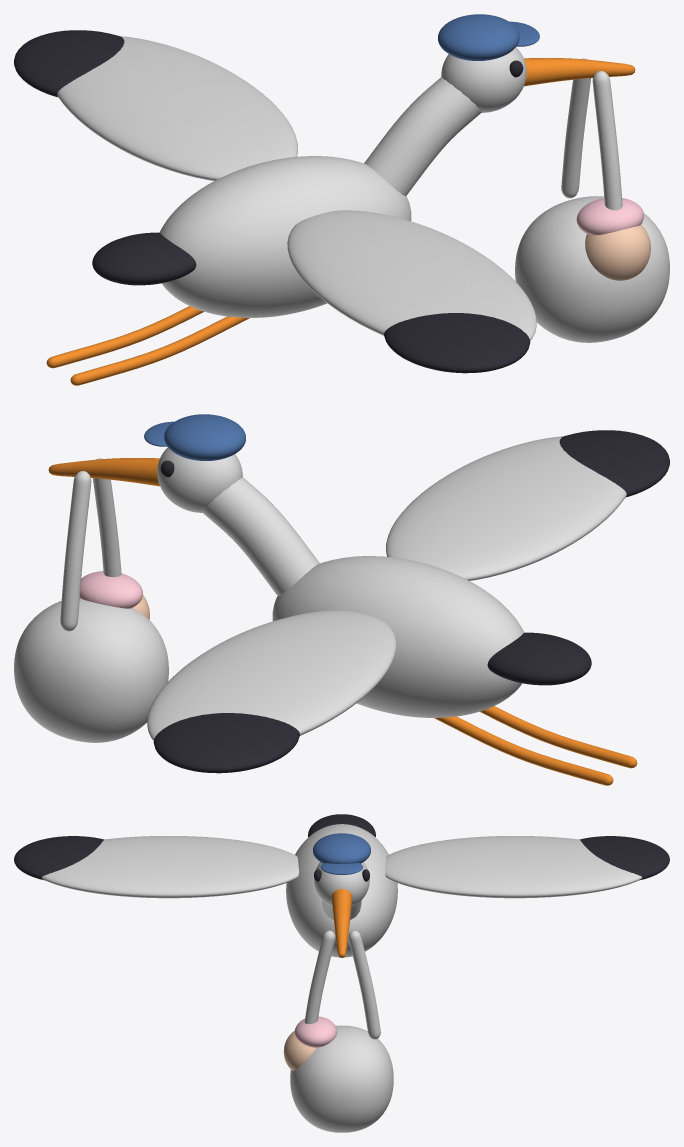
File: ciguena.glb
3 views of the same model, one above another, from view 1: azimuth 30°, elevation 25°; view 2: azimuth 150°, elevation 25°; view 3: azimuth 270°, elevation 25° (orthographic). The views are drawn at different scales.
Visible parts, largest first — view 1: cuerpo cigüeña, ala.001, ala, pañuelo, punta ala, cuello cigüeña, punta ala.001, cola cigüeña, cabeza cigüeña, gorra, cabeza en pañuelo, nudo pañuelo (+5 smaller); view 2: cuerpo cigüeña, ala, ala.001, pañuelo, punta ala.001, cuello cigüeña, punta ala, cola cigüeña, cabeza cigüeña, gorra, nudo pañuelo.001, pata cigüeña.001 (+4 smaller); view 3: ala, ala.001, pañuelo, cuerpo cigüeña, punta ala, punta ala.001, gorra, nudo pañuelo.001, cabeza cigüeña, nudo pañuelo, pico cigüeña, gorrito (+2 smaller).
Part boxes in pixels (x1=…): cuerpo cigüeña: x1=159, y1=156, x2=411, y2=317; ala.001: x1=57, y1=36, x2=297, y2=180; ala: x1=287, y1=210, x2=536, y2=340; pañuelo: x1=515, y1=196, x2=669, y2=342; punta ala: x1=384, y1=313, x2=530, y2=373; cuello cigüeña: x1=364, y1=77, x2=481, y2=195; punta ala.001: x1=14, y1=30, x2=124, y2=97; cola cigüeña: x1=92, y1=232, x2=196, y2=285; cabeza cigüeña: x1=441, y1=47, x2=526, y2=112; gorra: x1=438, y1=14, x2=519, y2=60; cabeza en pañuelo: x1=585, y1=225, x2=650, y2=280; nudo pañuelo: x1=592, y1=71, x2=622, y2=210; cuerpo cigüeña: x1=272, y1=556, x2=524, y2=717; ala: x1=386, y1=436, x2=626, y2=580; ala.001: x1=147, y1=610, x2=396, y2=740; pañuelo: x1=14, y1=598, x2=168, y2=742; punta ala.001: x1=153, y1=713, x2=299, y2=773; cuello cigüeña: x1=202, y1=477, x2=319, y2=595; punta ala: x1=559, y1=430, x2=669, y2=497; cola cigüeña: x1=487, y1=632, x2=591, y2=685; cabeza cigüeña: x1=157, y1=447, x2=242, y2=512; gorra: x1=164, y1=414, x2=245, y2=460; nudo pañuelo.001: x1=60, y1=471, x2=91, y2=631; pata cigüeña.001: x1=434, y1=716, x2=613, y2=785; ala: x1=41, y1=836, x2=298, y2=898; ala.001: x1=385, y1=836, x2=642, y2=898; pañuelo: x1=290, y1=1025, x2=393, y2=1132; cuerpo cigüeña: x1=286, y1=824, x2=397, y2=957; punta ala: x1=14, y1=836, x2=104, y2=880; punta ala.001: x1=579, y1=836, x2=669, y2=880; gorra: x1=313, y1=833, x2=370, y2=863; nudo pañuelo.001: x1=348, y1=930, x2=380, y2=1039; cabeza cigüeña: x1=314, y1=862, x2=369, y2=906; nudo pañuelo: x1=304, y1=930, x2=335, y2=1023; pico cigüeña: x1=331, y1=889, x2=352, y2=957; gorrito: x1=294, y1=1016, x2=337, y2=1047.
Bounding box in the file's own units: 1.16 × 0.6292 × 1.51.
